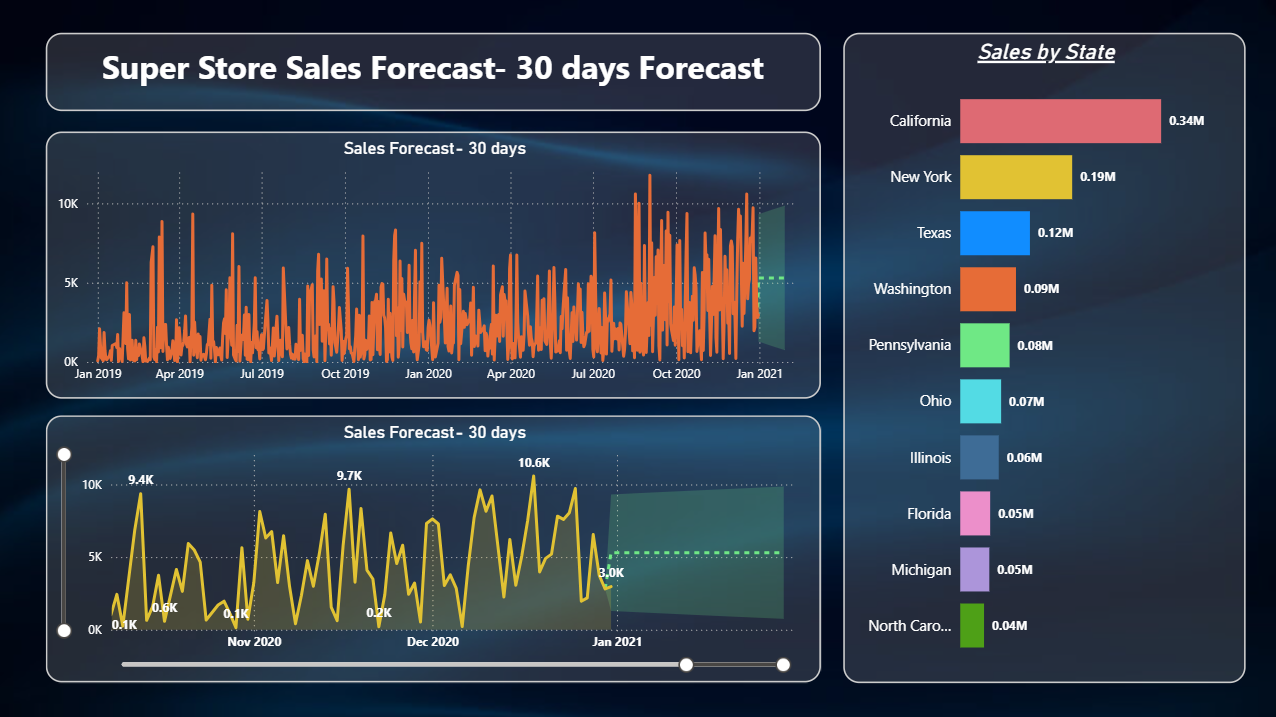

What the dashboard file says about the page in this screenshot:
{"tool":"powerbi","page":{"name":"Page 2","canvas":[1280,720],"ordinal":1},"visuals":[{"type":"lineChart","title":"Sales Forecast- 30 days","fields":{"Y":["Sum(SuperStore_Sales_Dataset.Sales)"],"Category":["SuperStore_Sales_Dataset.order_date.Variation.Date Hierarchy.Year","SuperStore_Sales_Dataset.order_date.Variation.Date Hierarchy.Quarter","SuperStore_Sales_Dataset.order_date.Variation.Date Hierarchy.Month","SuperStore_Sales_Dataset.order_date.Variation.Date Hierarchy.Day"]},"box":[48.8,132.5,775,267.5],"z":0},{"type":"lineChart","title":"Sales Forecast- 30 days","fields":{"Y":["Sum(SuperStore_Sales_Dataset.Sales)"],"Category":["SuperStore_Sales_Dataset.order_date.Variation.Date Hierarchy.Year","SuperStore_Sales_Dataset.order_date.Variation.Date Hierarchy.Quarter","SuperStore_Sales_Dataset.order_date.Variation.Date Hierarchy.Month","SuperStore_Sales_Dataset.order_date.Variation.Date Hierarchy.Day"]},"box":[48.8,416.2,775,267.5],"z":1000},{"type":"barChart","title":"Sales by State","fields":{"Y":["Sum(SuperStore_Sales_Dataset.Sales)"],"Category":["SuperStore_Sales_Dataset.State"]},"box":[846.2,33.8,402.5,650],"z":2000},{"type":"textbox","box":[48.8,33.8,775,78.8],"z":2001}]}

Visuals, with their boxes in screenshot pixels (x1, y1, x2, y2), scaled from the page's 1280x720 canvas onto the 1276x717 screenshot:
"Sales Forecast- 30 days" lineChart: [left=49, top=132, right=821, bottom=398]
"Sales Forecast- 30 days" lineChart: [left=49, top=414, right=821, bottom=681]
"Sales by State" barChart: [left=844, top=34, right=1245, bottom=681]
textbox: [left=49, top=34, right=821, bottom=112]
